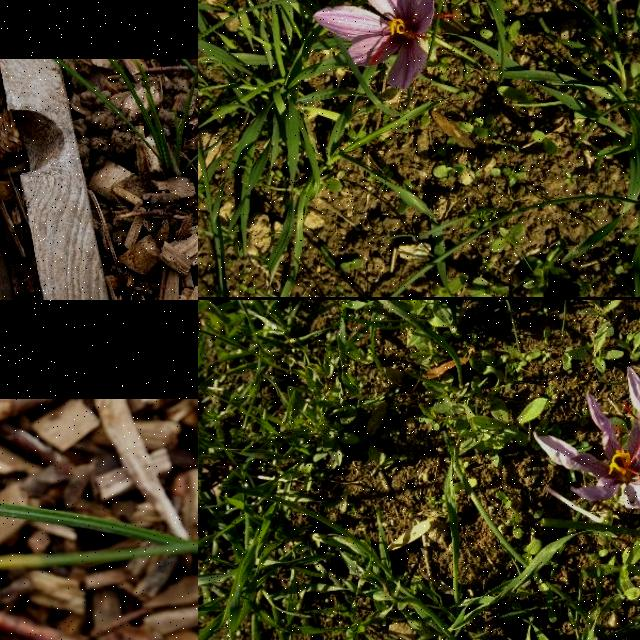flower: (533, 367, 640, 509), (313, 0, 456, 89)
